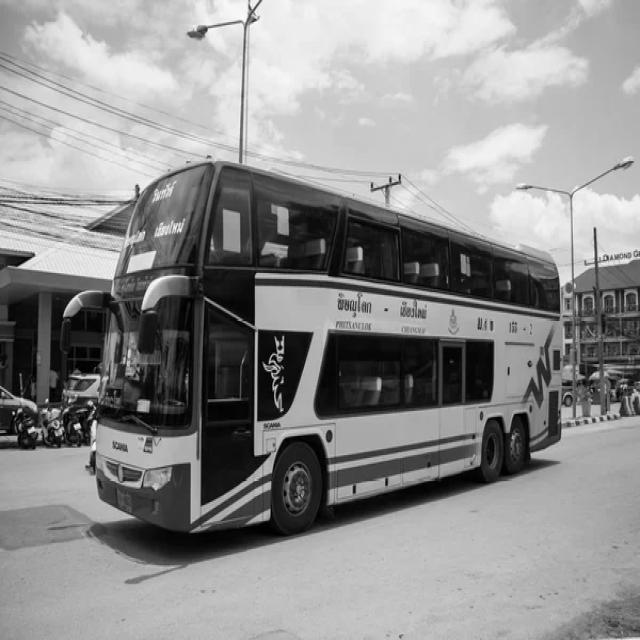Bus: (58, 158, 568, 524)
